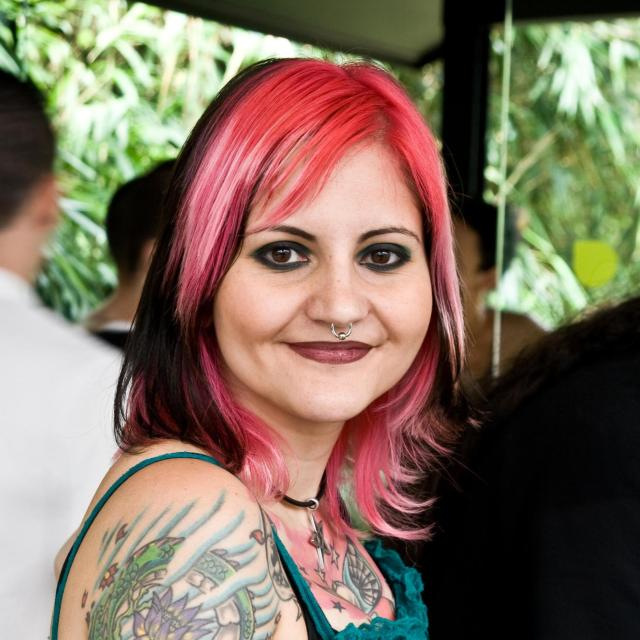no-glass: (248, 238, 407, 280)
